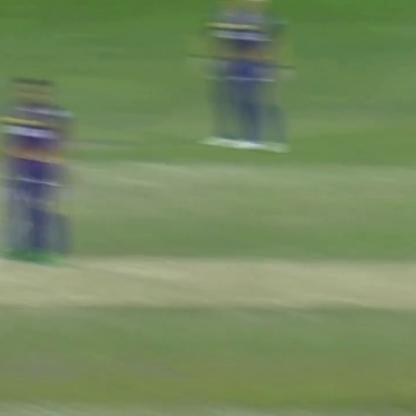pitch: (6, 247, 416, 342)
